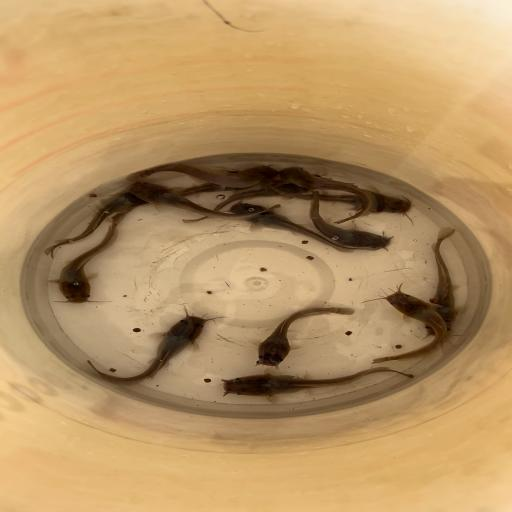lele: (86, 314, 208, 385), (44, 191, 148, 259), (181, 174, 319, 224), (53, 213, 126, 304), (124, 180, 282, 222), (230, 203, 362, 253), (220, 366, 414, 399), (253, 306, 355, 368), (369, 289, 449, 365), (299, 186, 392, 250), (278, 166, 375, 224), (261, 181, 413, 214), (418, 226, 458, 341), (125, 164, 277, 188), (167, 170, 253, 202)
